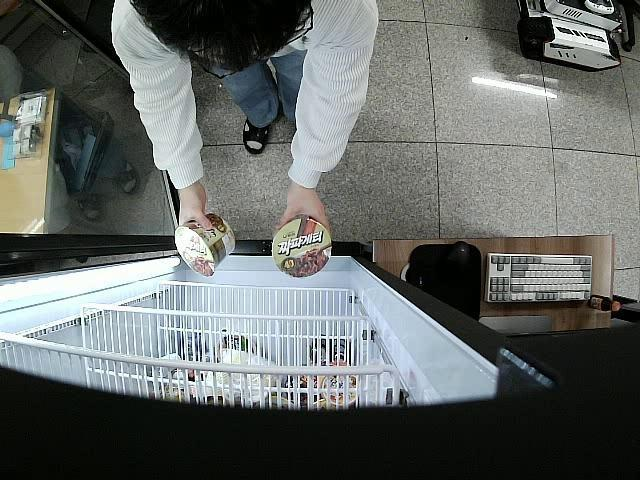03_chapagetti_L: (172, 213, 236, 276), (272, 218, 332, 276)
